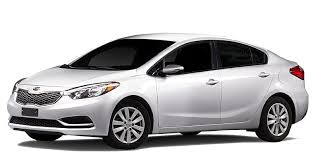car: (3, 31, 312, 145)
